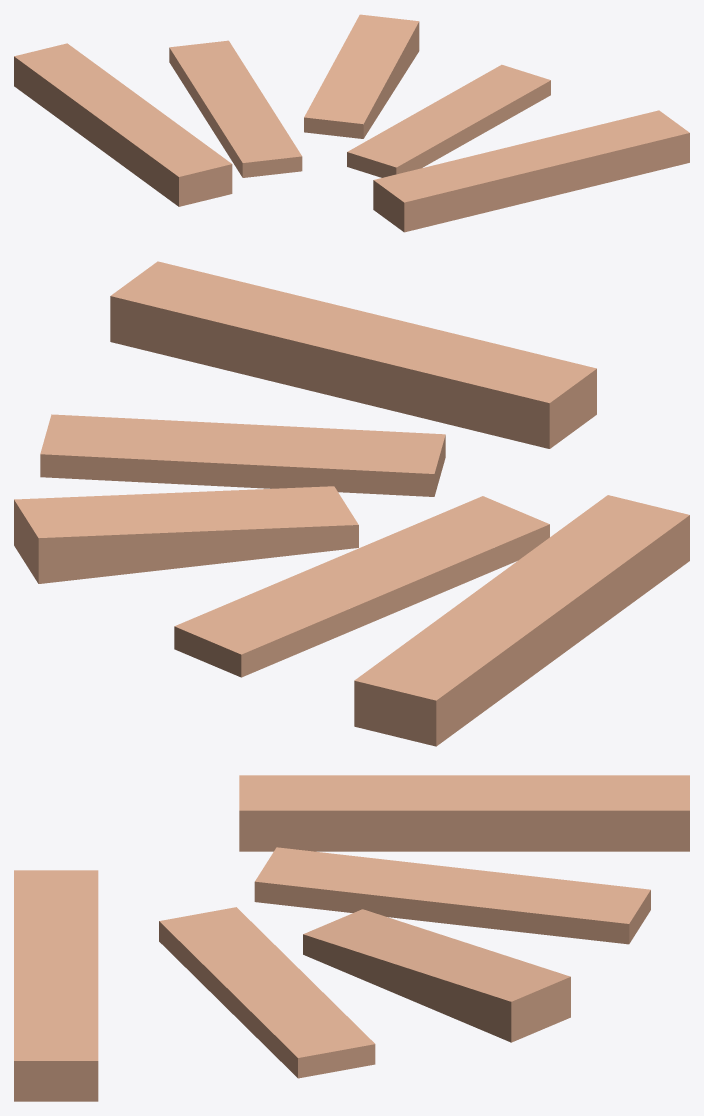
Rendered from path_woodCorner.glb.
3 views of the same model, one above another, from view 1: azimuth 30°, elevation 25°; view 2: azimuth 150°, elevation 25°; view 3: azimuth 270°, elevation 25° (orthographic). The views are drawn at different scales.
Parts seen in each view (by area): view 1: path_woodCorner; view 2: path_woodCorner; view 3: path_woodCorner.
Boxes of the visible parts, left/top/right/bottom form: path_woodCorner: left=14, top=14, right=689, bottom=232; path_woodCorner: left=14, top=261, right=689, bottom=746; path_woodCorner: left=14, top=775, right=689, bottom=1101.
Bounding box in the file's own units: 0.75 × 0.05 × 0.75.
